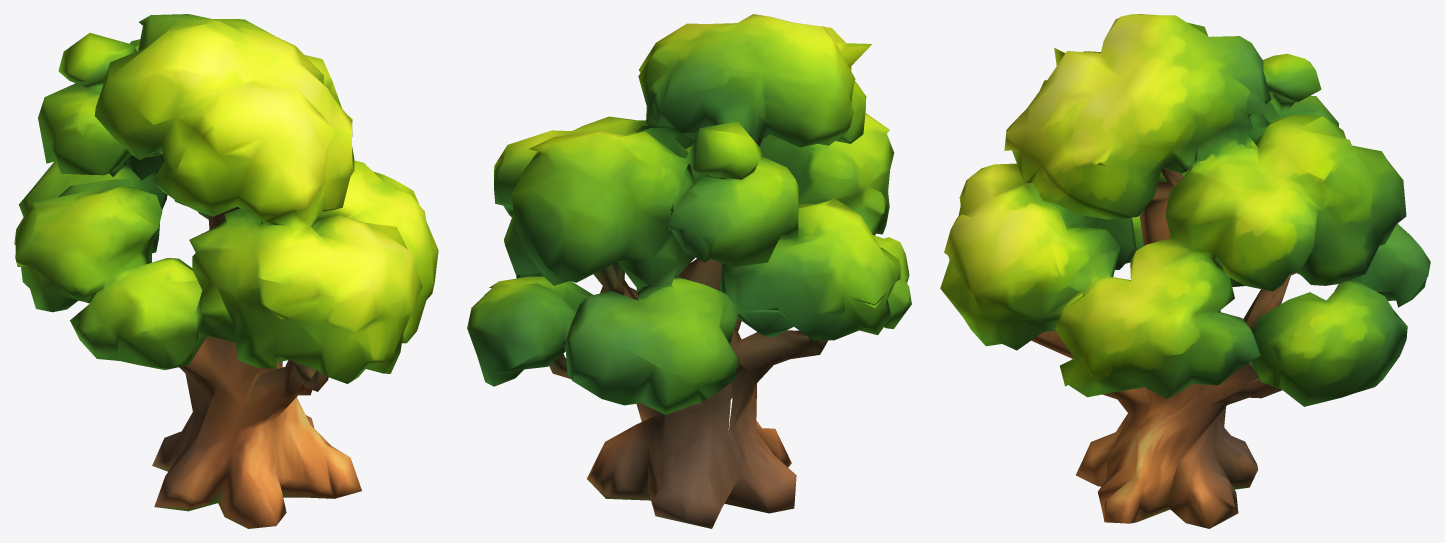
File: model_raw.glb
The picture shows the model from 3 angles, left to right: view 1: azimuth 30°, elevation 25°; view 2: azimuth 150°, elevation 25°; view 3: azimuth 270°, elevation 25°; orthographic projection. The views are drawn at different scales.
Visible parts, largest first — view 1: tripo_node_6bd6dc56-26d7-46d3-ae44-2c815e9b3e82; view 2: tripo_node_6bd6dc56-26d7-46d3-ae44-2c815e9b3e82; view 3: tripo_node_6bd6dc56-26d7-46d3-ae44-2c815e9b3e82.
Boxes of the visible parts, x1,y1,x2,y2 form: tripo_node_6bd6dc56-26d7-46d3-ae44-2c815e9b3e82: [14, 14, 438, 528]; tripo_node_6bd6dc56-26d7-46d3-ae44-2c815e9b3e82: [467, 14, 911, 528]; tripo_node_6bd6dc56-26d7-46d3-ae44-2c815e9b3e82: [940, 14, 1430, 528].
Size of the model in its own units: 0.8332 by 0.9937 by 1.
1 material, 1 textured.
